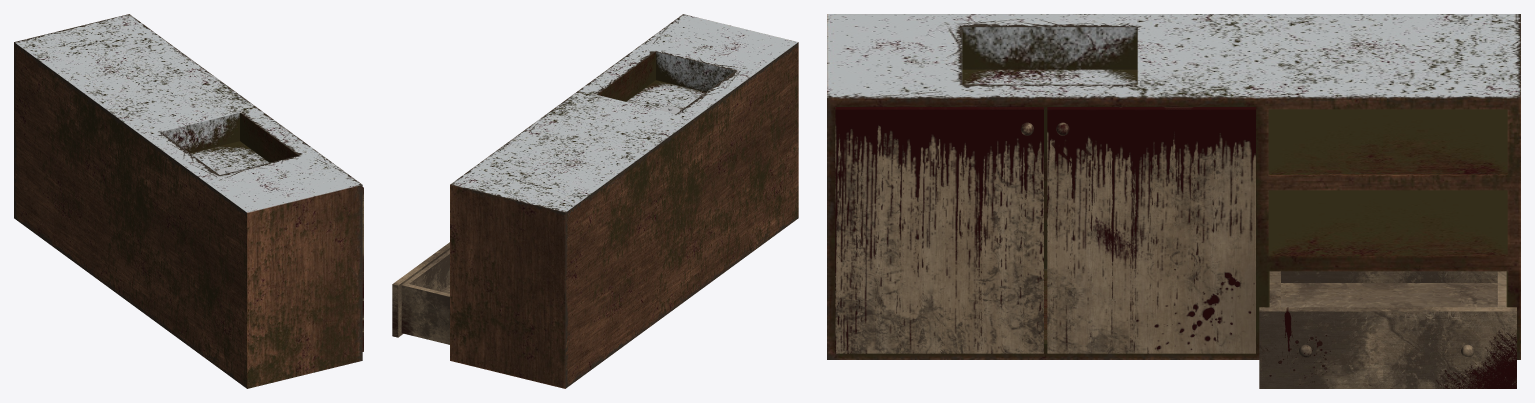
File: cabinet_with_sink.glb
3 renders of one model, left to right at view 1: azimuth 30°, elevation 25°; view 2: azimuth 150°, elevation 25°; view 3: azimuth 270°, elevation 25°, orthographic. The views are drawn at different scales.
Visible parts, largest first — view 1: Pia, PortaPia2; view 2: Pia, Gaveta1; view 3: Pia, PortaPia1, PortaPia2, Gaveta1.
Part boxes in pixels (<box>): Pia: <box>14,14,362,388</box>; PortaPia2: <box>362,187,363,351</box>; Pia: <box>450,14,798,388</box>; Gaveta1: <box>392,242,449,344</box>; Pia: <box>827,14,1520,359</box>; PortaPia1: <box>1047,107,1255,353</box>; PortaPia2: <box>835,107,1043,353</box>; Gaveta1: <box>1259,271,1516,388</box>.
Bounding box in the file's own units: 0.7279 × 0.6753 × 1.62.
Materials: 5 (5 with a texture image).
